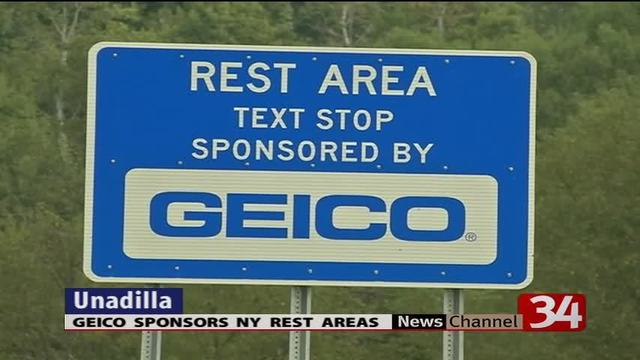geico: (146, 183, 483, 251)
